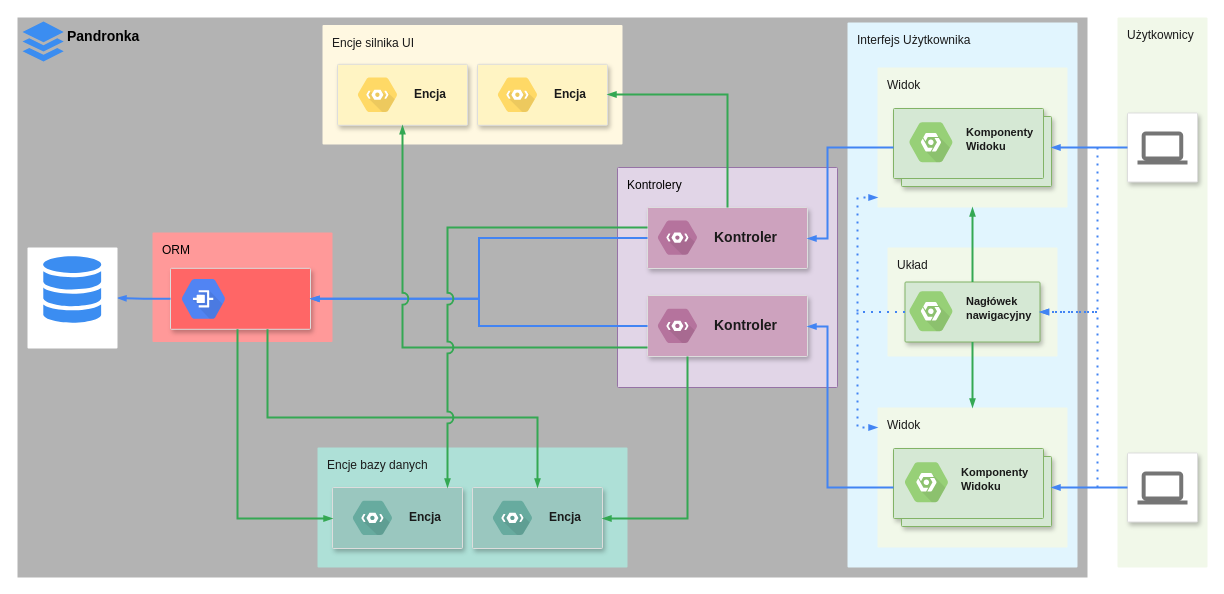
Some shapes in this 1224 by 594 pixel diagram are drawn without their labels. The centre of each missing label's shape, as x and y in pixels:
"Adapter dostępowy" goes at [203,298].
"Baza danych" goes at [72,289].
